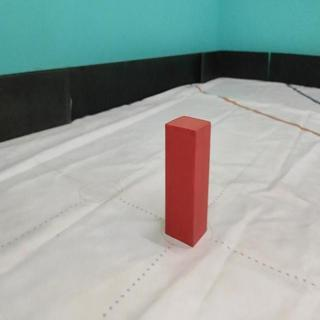redbox: (163, 113, 212, 248)
